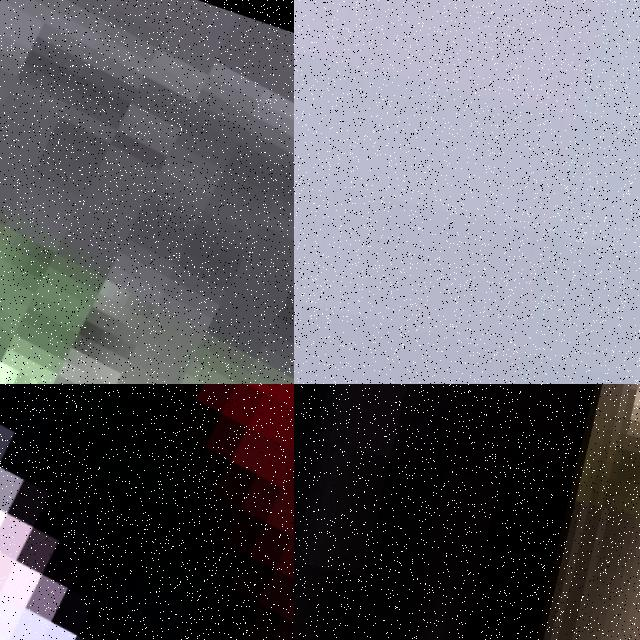0: (0, 0, 294, 384)
drone: (0, 384, 294, 640)
